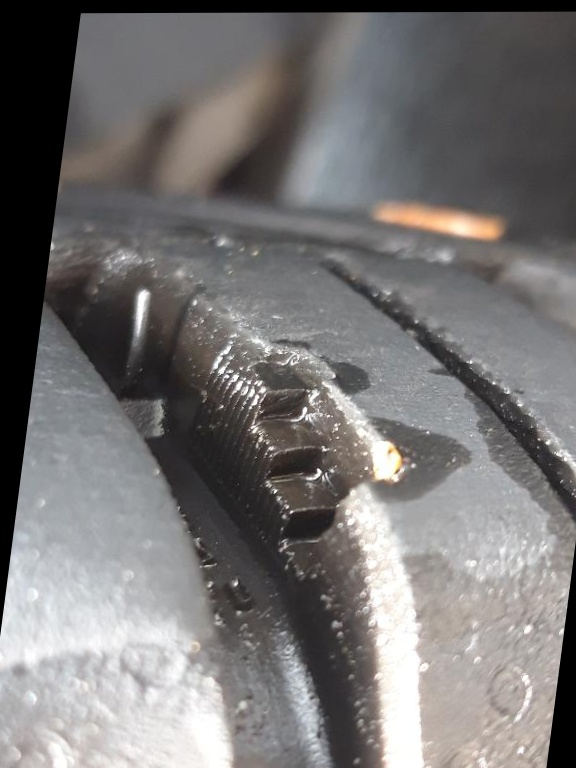temoin:80: (154, 324, 430, 604)
